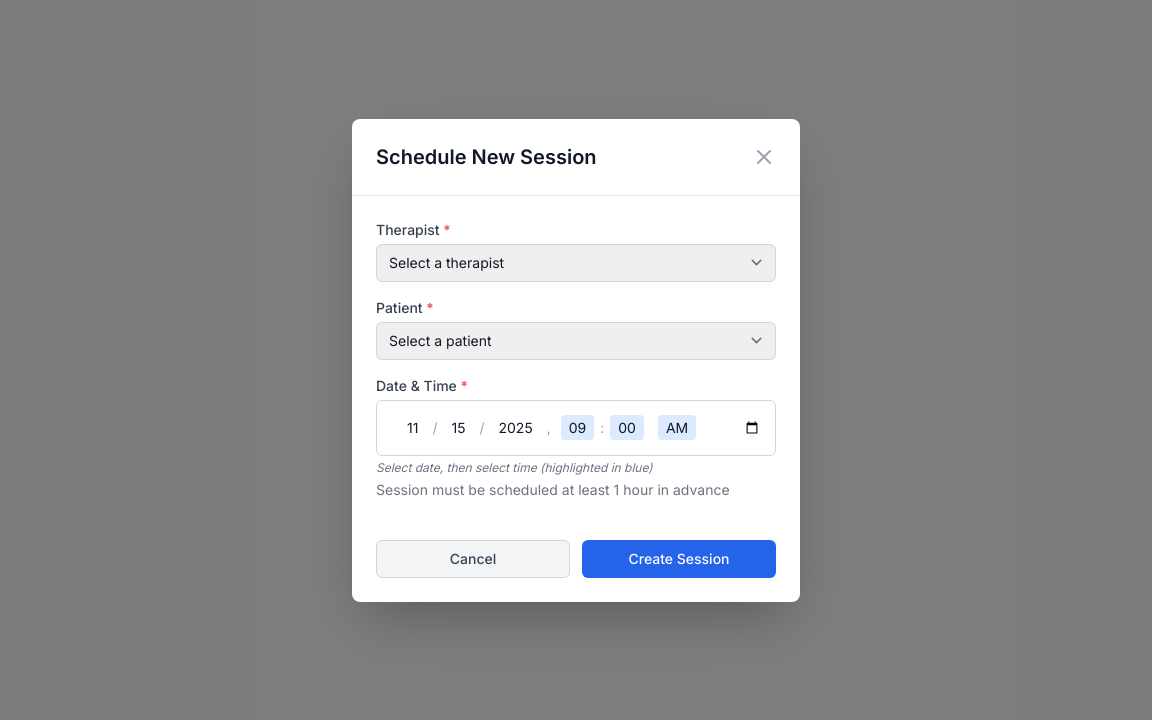
Scenario: CreateSessionModal › Form Submission › handles submission errors
# Fill and submit form
Select "Dr. Sarah Johnson (Physical Therapy)" in the dropdown labelled "Therapist *" at point(576, 262), box [376,244,776,282]
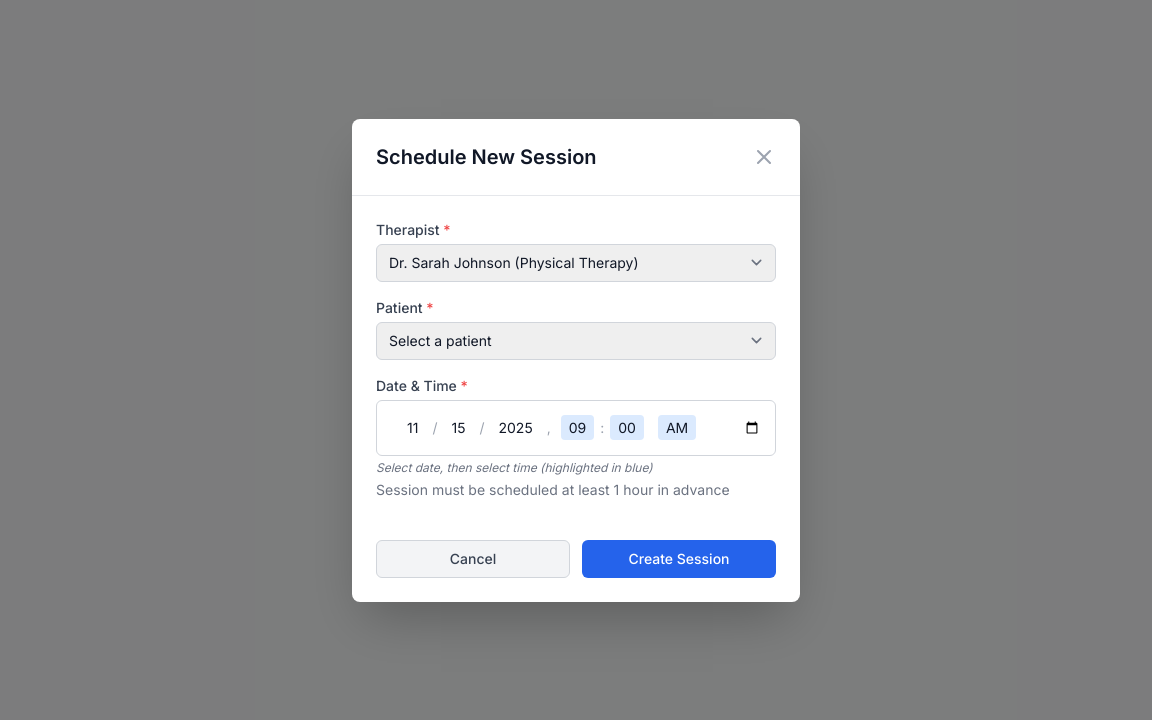
Select "John Smith" in the dropdown labelled "Patient *" at point(576, 340), box [376,322,776,360]
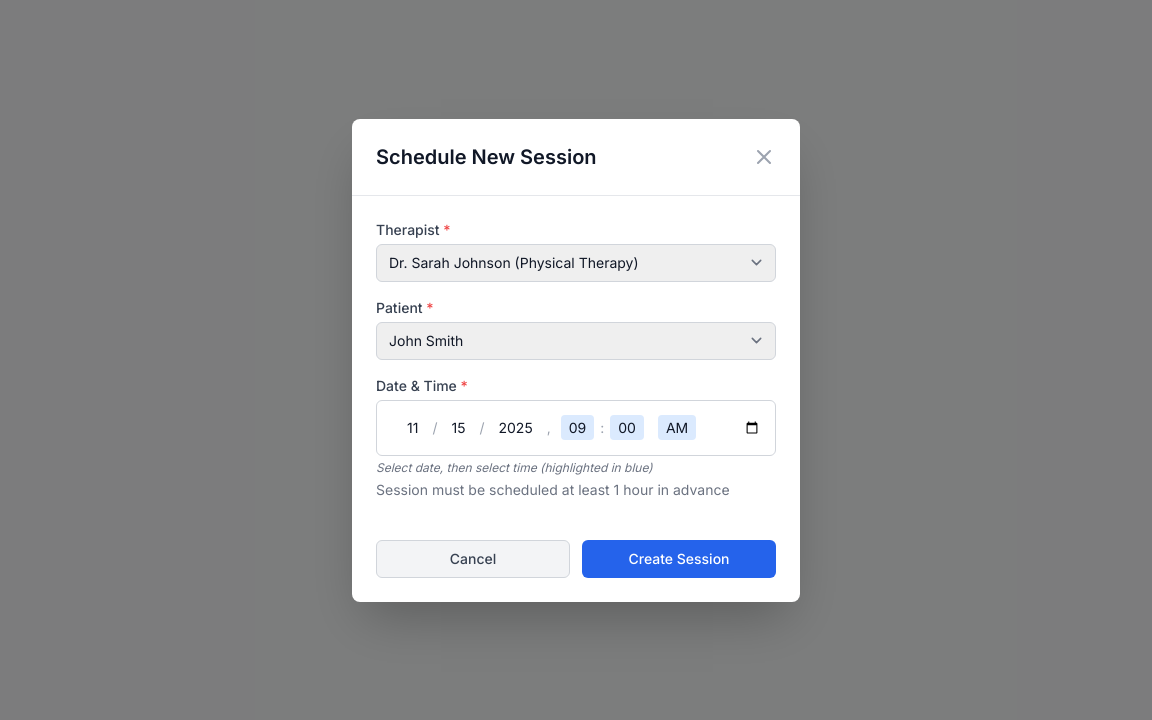
Replace the text in the field labelled "Date & Time *" with "2025-11-15T10:00" at point(576, 428), box [376,400,776,456]
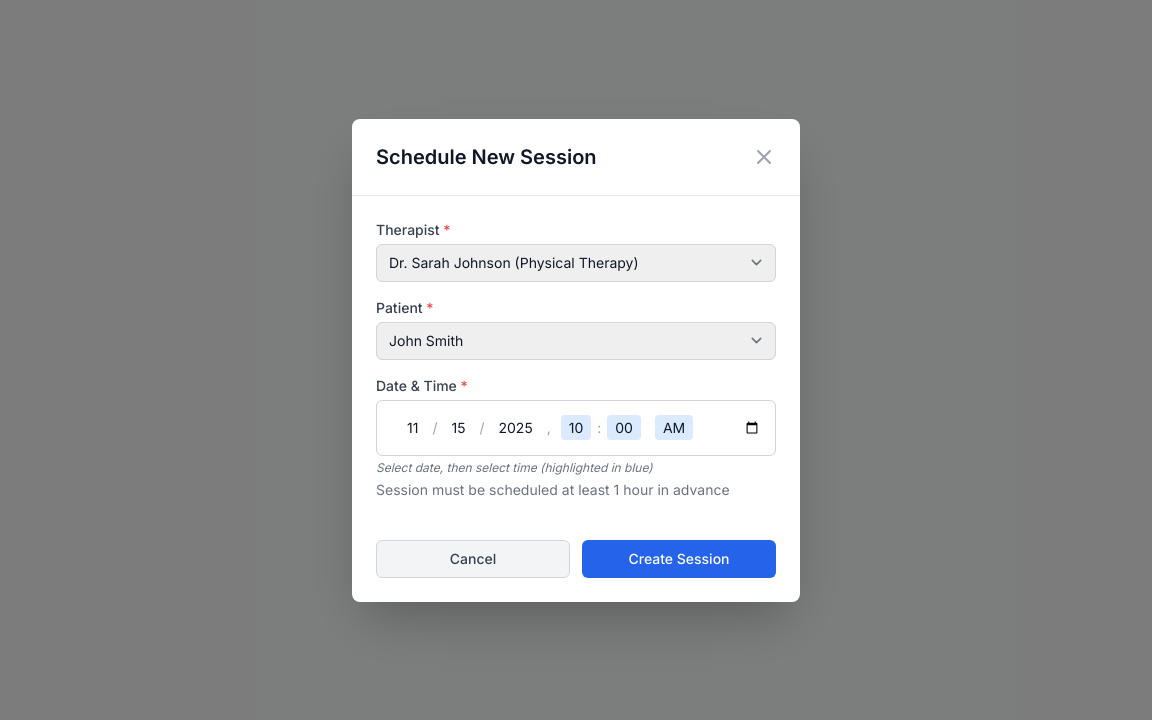
Click the button "Create Session" at point(679, 558), box [582,540,776,578]
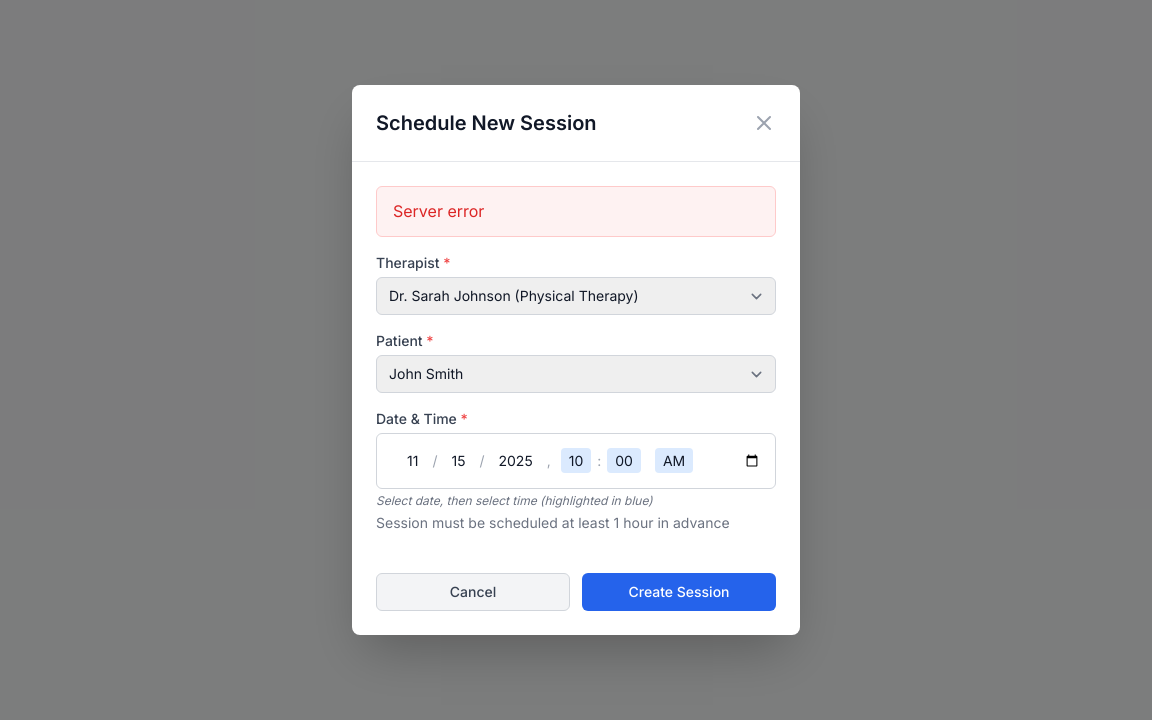
Now the text "Server error" is shown, box [376,186,776,237]
